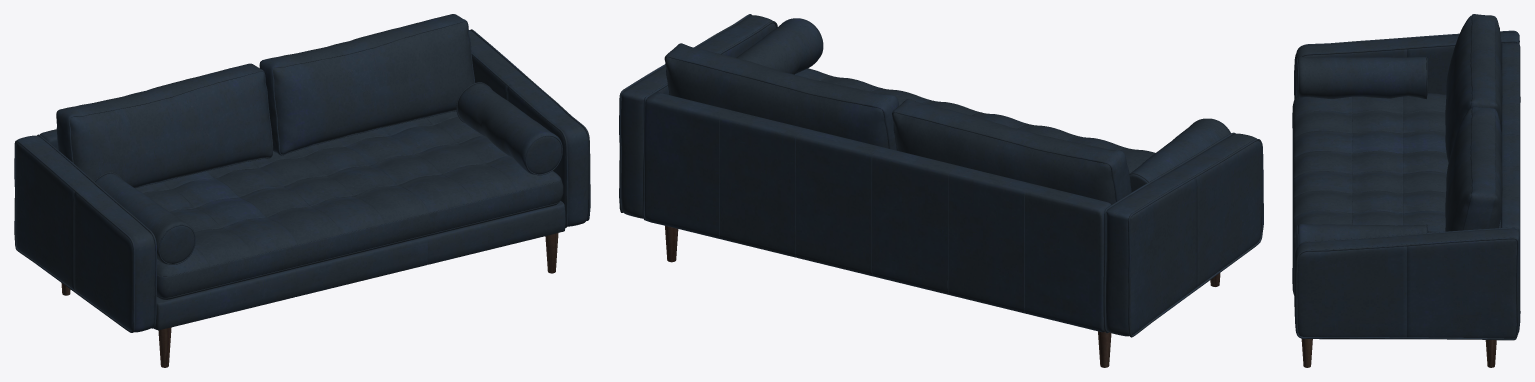
The model's file is sofa22881.glb.
The picture shows the model from 3 angles, left to right: view 1: azimuth 30°, elevation 25°; view 2: azimuth 150°, elevation 25°; view 3: azimuth 270°, elevation 25°; orthographic projection. The views are drawn at different scales.
Visible parts, largest first — view 1: sofa22881; view 2: sofa22881; view 3: sofa22881.
Boxes of the visible parts, x1=… form: sofa22881: x1=14, y1=14, x2=590, y2=367; sofa22881: x1=619, y1=14, x2=1263, y2=367; sofa22881: x1=1292, y1=14, x2=1520, y2=367.
Bounding box in the file's own units: 2.28 × 0.8935 × 1.05.
Materials: 2 (2 with a texture image).
